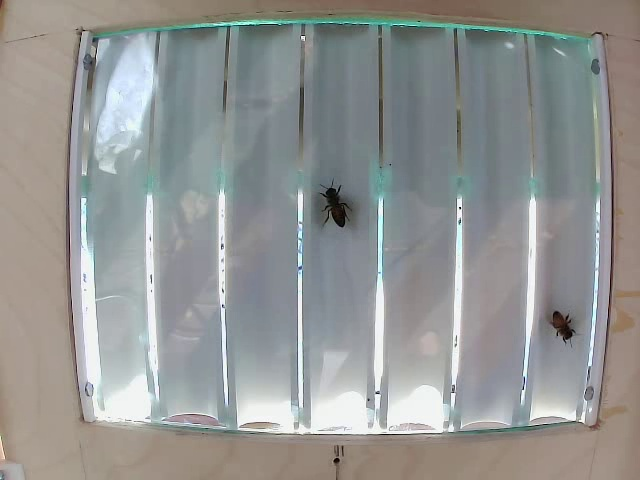bee: (317, 186, 360, 245), (547, 306, 583, 349)
